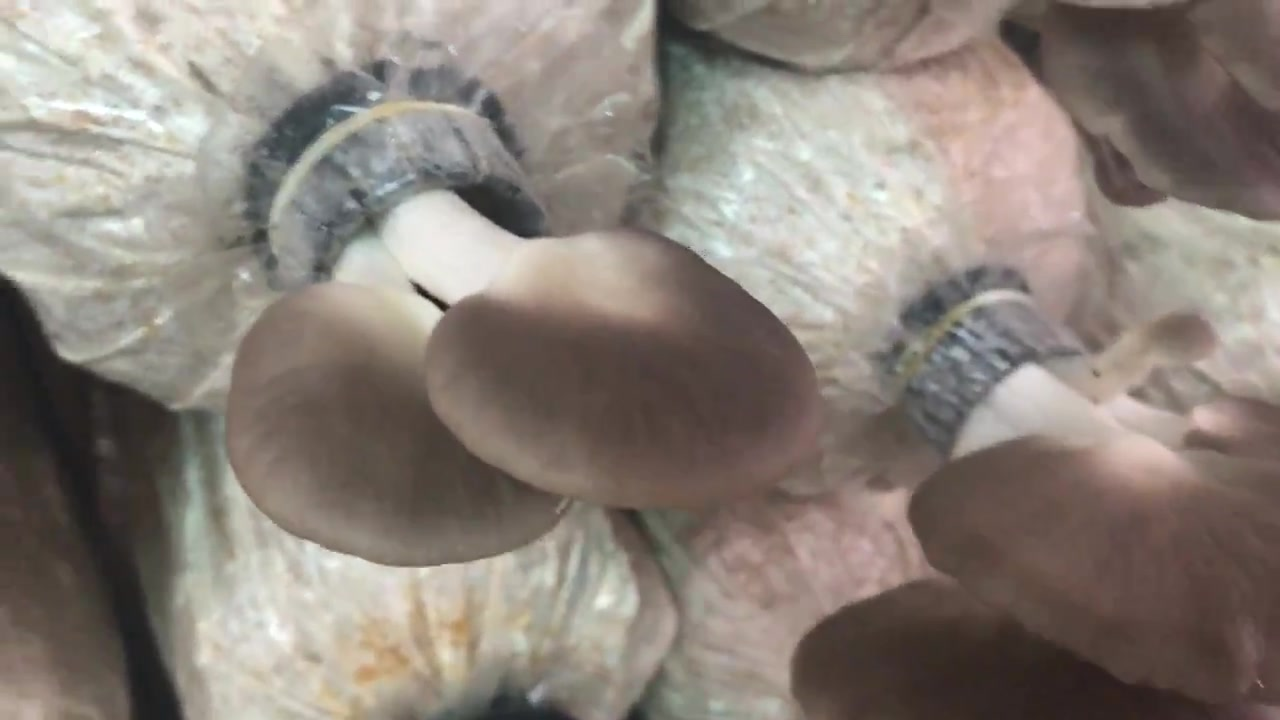nam: (225, 88, 823, 560), (791, 310, 1280, 715)
